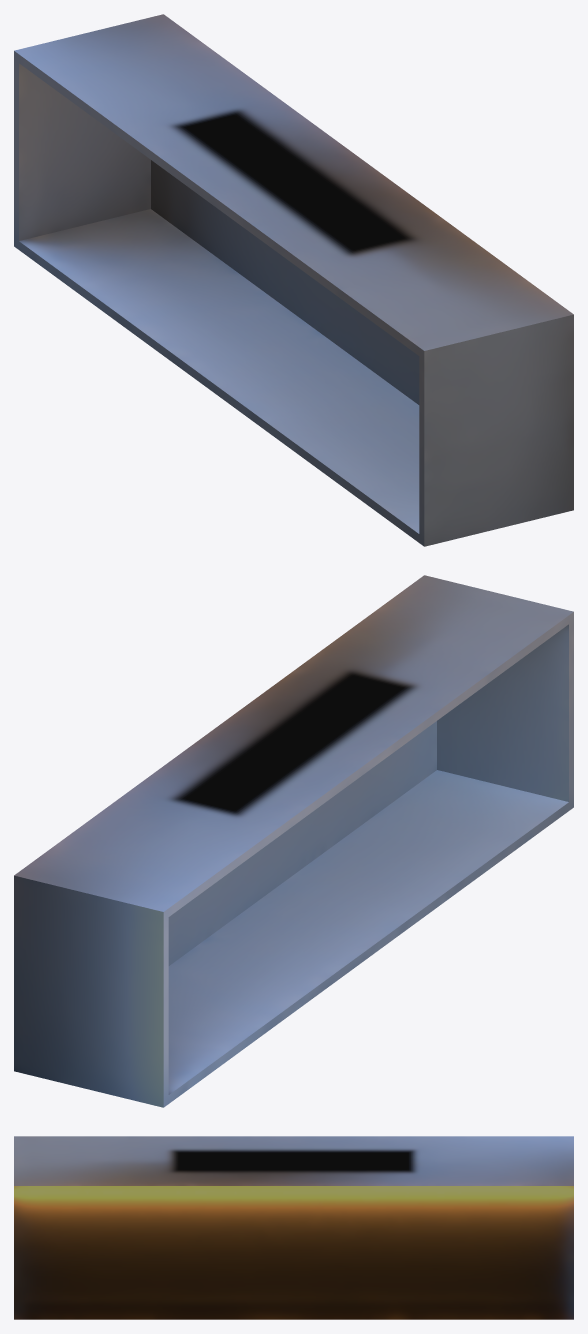
Rendered from TV-Table.gltf.
3 views of the same model, one above another, from view 1: azimuth 30°, elevation 25°; view 2: azimuth 150°, elevation 25°; view 3: azimuth 270°, elevation 25° (orthographic). The views are drawn at different scales.
Visible parts, largest first — view 1: TV-Table; view 2: TV-Table; view 3: TV-Table.
Boxes of the visible parts, x1,y1,x2,y2 form: TV-Table: (14, 14, 573, 546); TV-Table: (14, 575, 573, 1107); TV-Table: (14, 1136, 573, 1319).
Size of the model in its own units: 0.4 by 0.5 by 1.9.
1 material, 1 textured.
